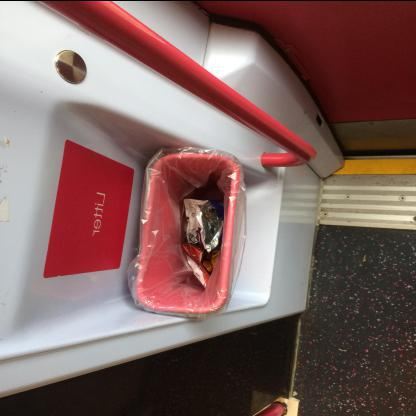plastik: (184, 198, 224, 252), (181, 244, 212, 288)
